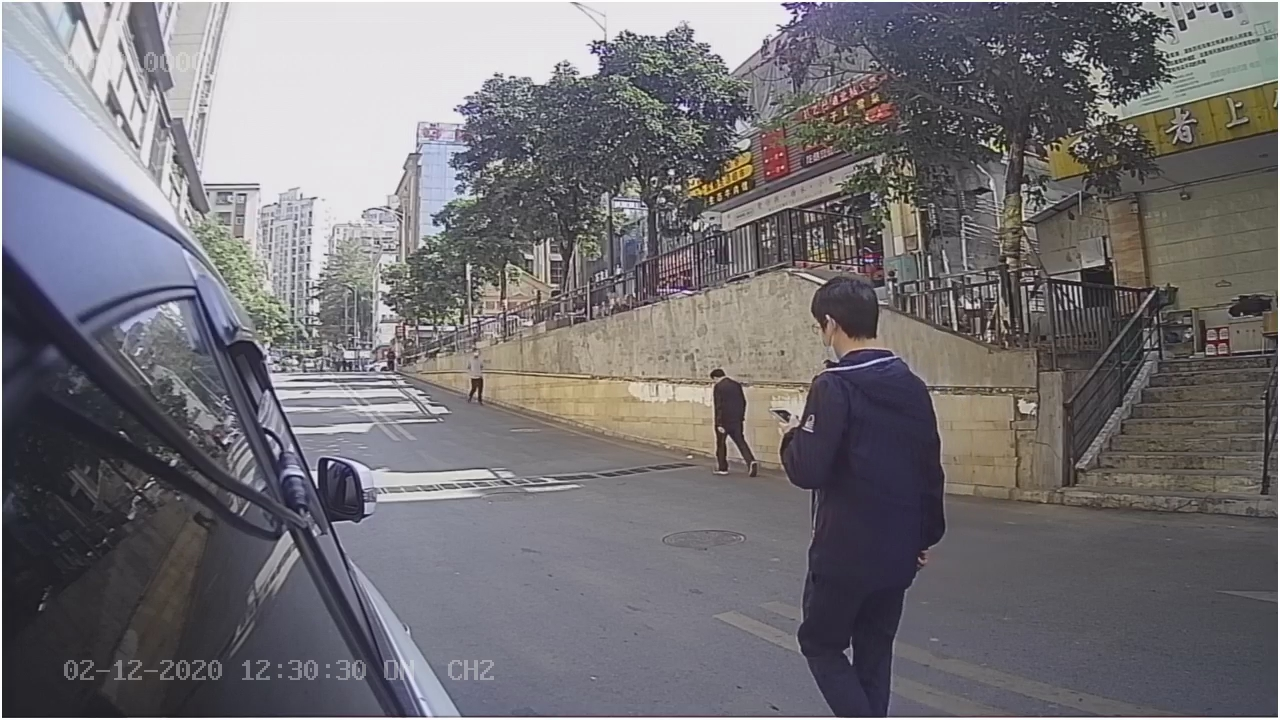person: (775, 268, 958, 492)
